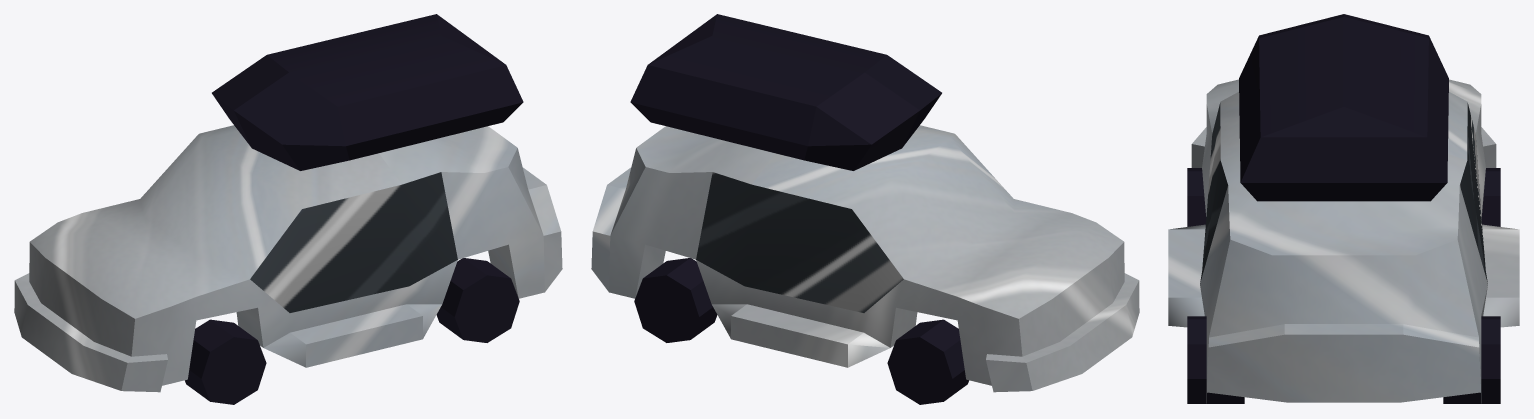
Rendered from SM_Cars.fbx.
The picture shows the model from 3 angles, left to right: view 1: azimuth 30°, elevation 25°; view 2: azimuth 150°, elevation 25°; view 3: azimuth 270°, elevation 25°; orthographic projection. The views are drawn at different scales.
Visible parts, largest first — view 1: SM_Car01; view 2: SM_Car01; view 3: SM_Car01.
Part boxes in pixels (bbox=[...]): SM_Car01: bbox=[14, 14, 562, 404]; SM_Car01: bbox=[591, 14, 1139, 404]; SM_Car01: bbox=[1168, 14, 1519, 403].
Bounding box in the file's own units: 662 × 353 × 339.
Materials: 1 (1 with a texture image).
